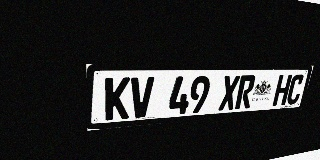4: (168, 76, 192, 115)
9: (188, 76, 211, 113)
C: (285, 74, 305, 105)
H: (272, 74, 292, 106)
K: (105, 77, 130, 121)
R: (235, 75, 256, 109)
V: (130, 77, 154, 118)
X: (218, 75, 240, 111)
